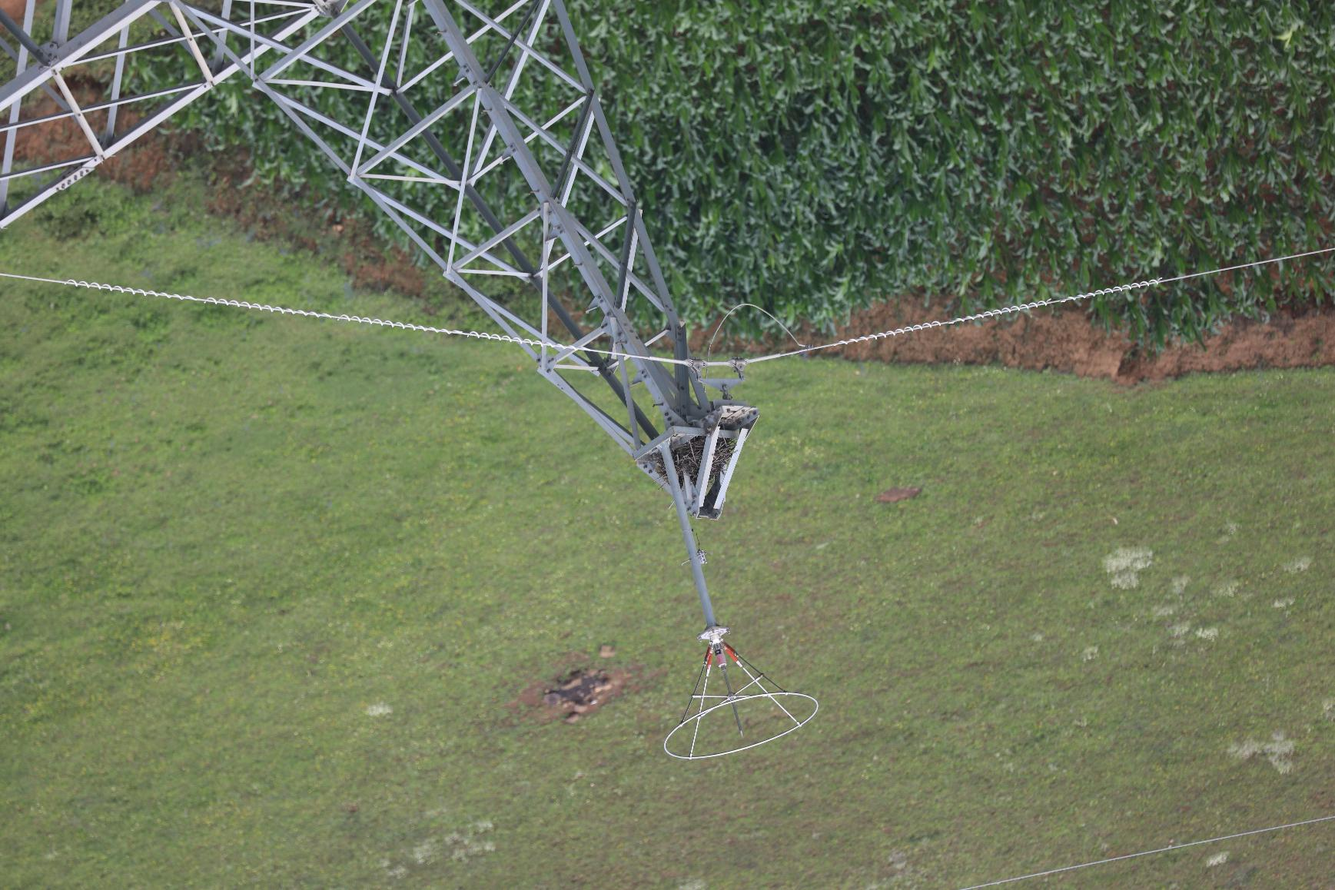nest: (654, 433, 738, 485)
